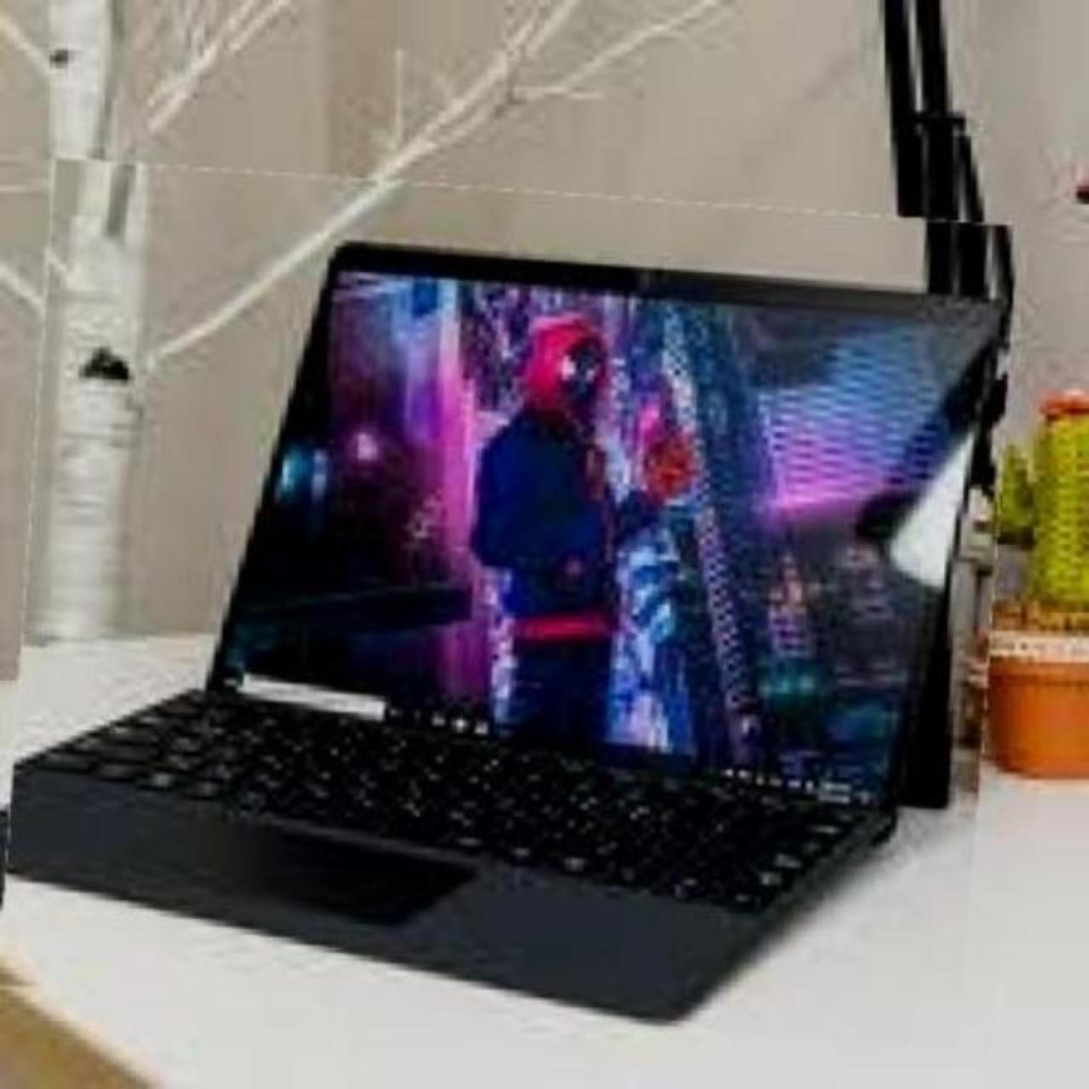laptop: (11, 174, 1003, 1037)
